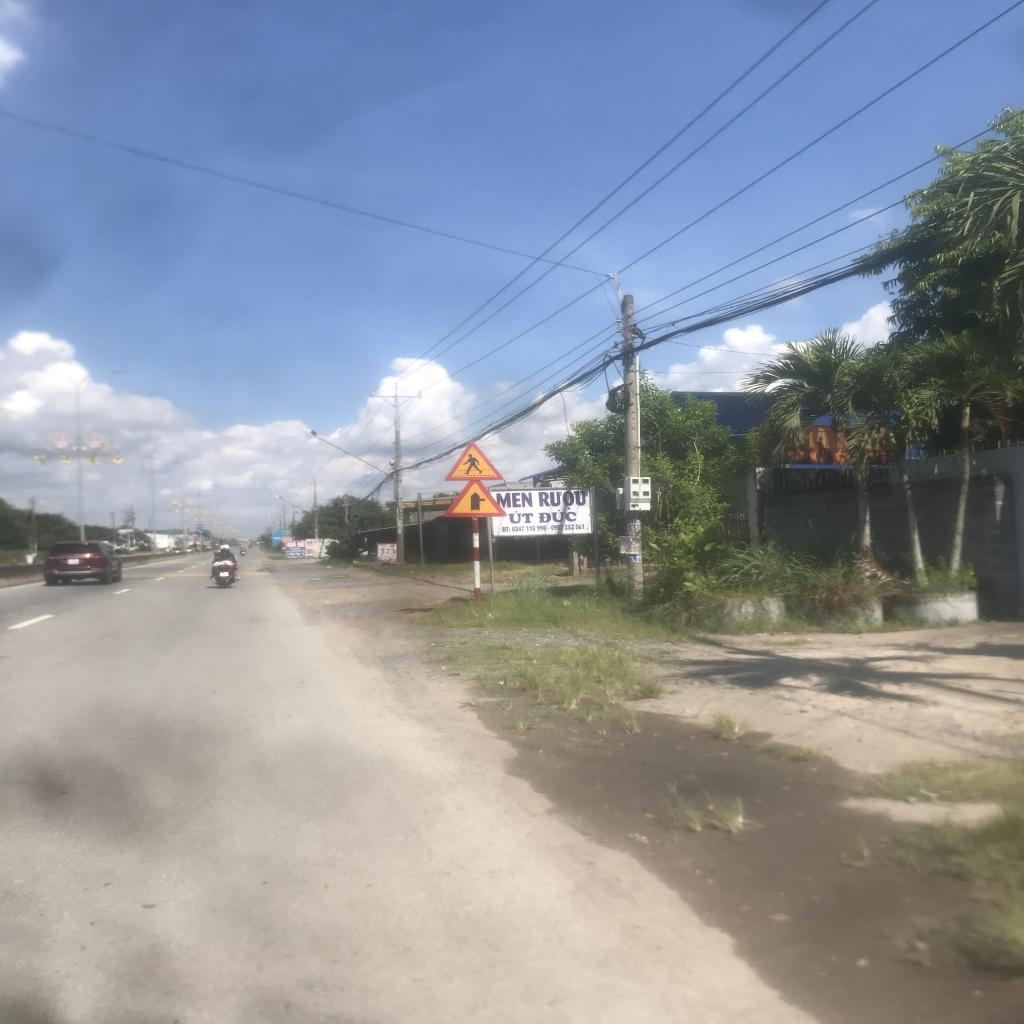chu_y_nguoi_di_bo_cat_ngang: (446, 439, 506, 479)
giao_nhau_voi_duong_khong_uu_tien: (443, 478, 508, 516)
